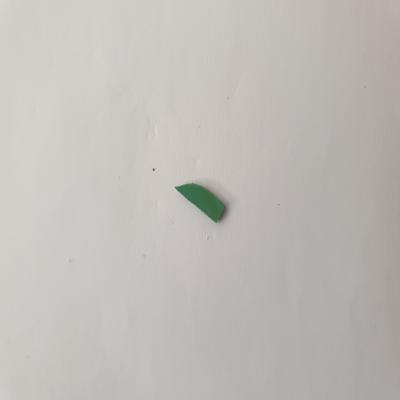plastic: (170, 178, 231, 230)
